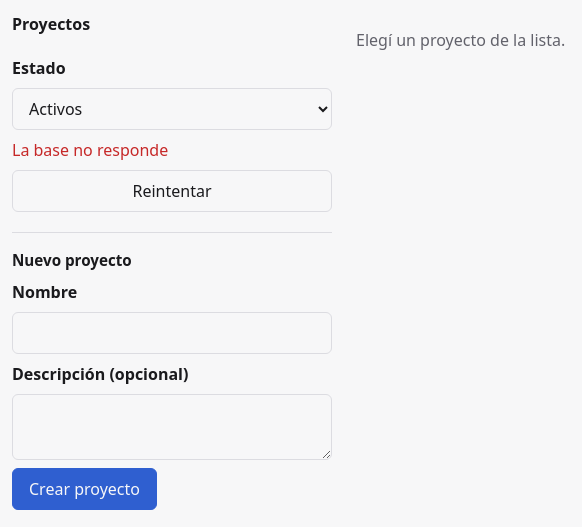
Test: ProjectsPage list › shows the API error with a retry button that reloads the list
The image size is (582, 527).
expect the message reads "La base no responde": met, box [12,139,168,161]
Step 1. Click the button "Reintentar" → (172, 191), box [12,170,332,212]
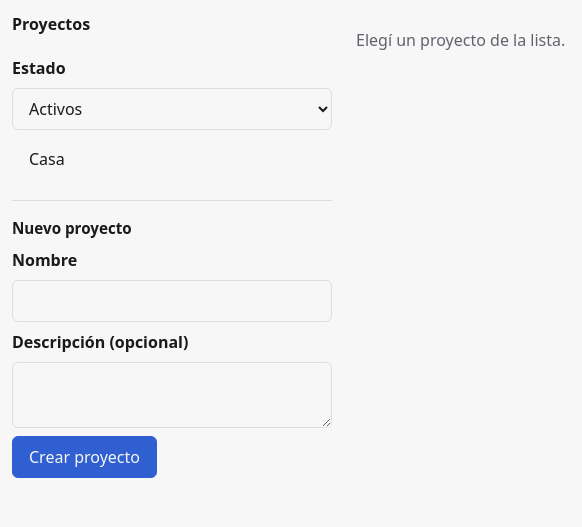
expect the button "Casa" is shown: met, box [12,138,332,180]
expect the message "La base no responde" is gone: met
